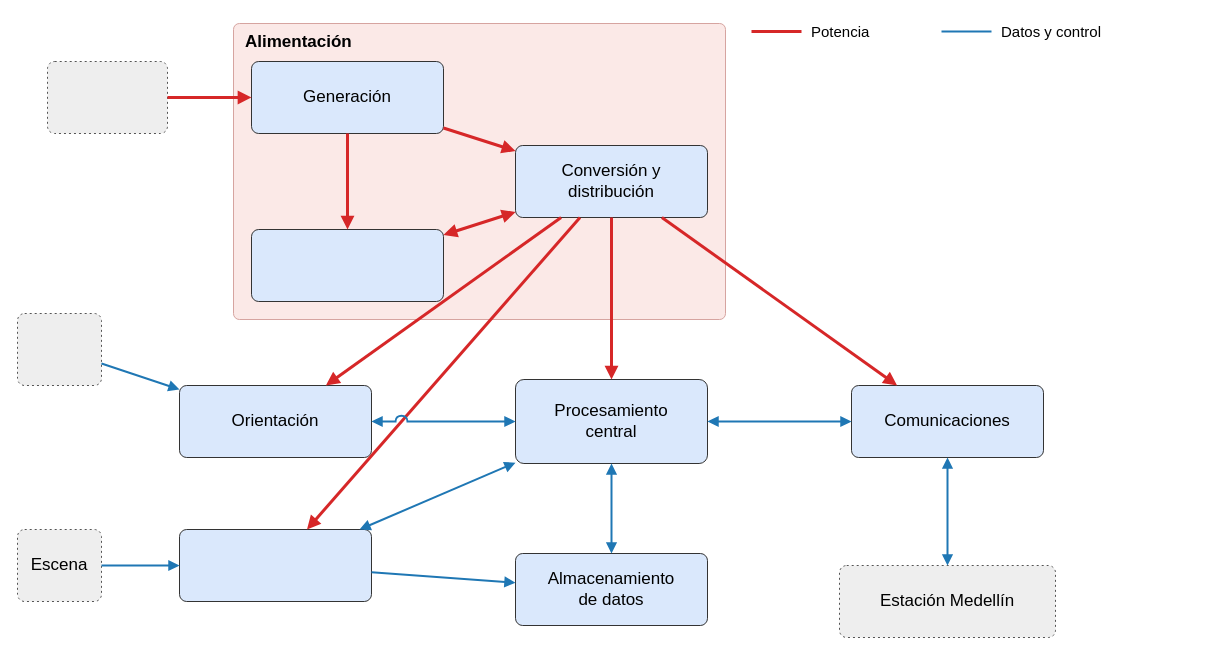
This 1207x655 diagram has some shape labels left out. Each missing label, with the centre of its shape:
Almacenamiento de energía: (347,265)
Campo B, Sol: (59,349)
Carga útil: (275,565)
Sol: (107,97)
